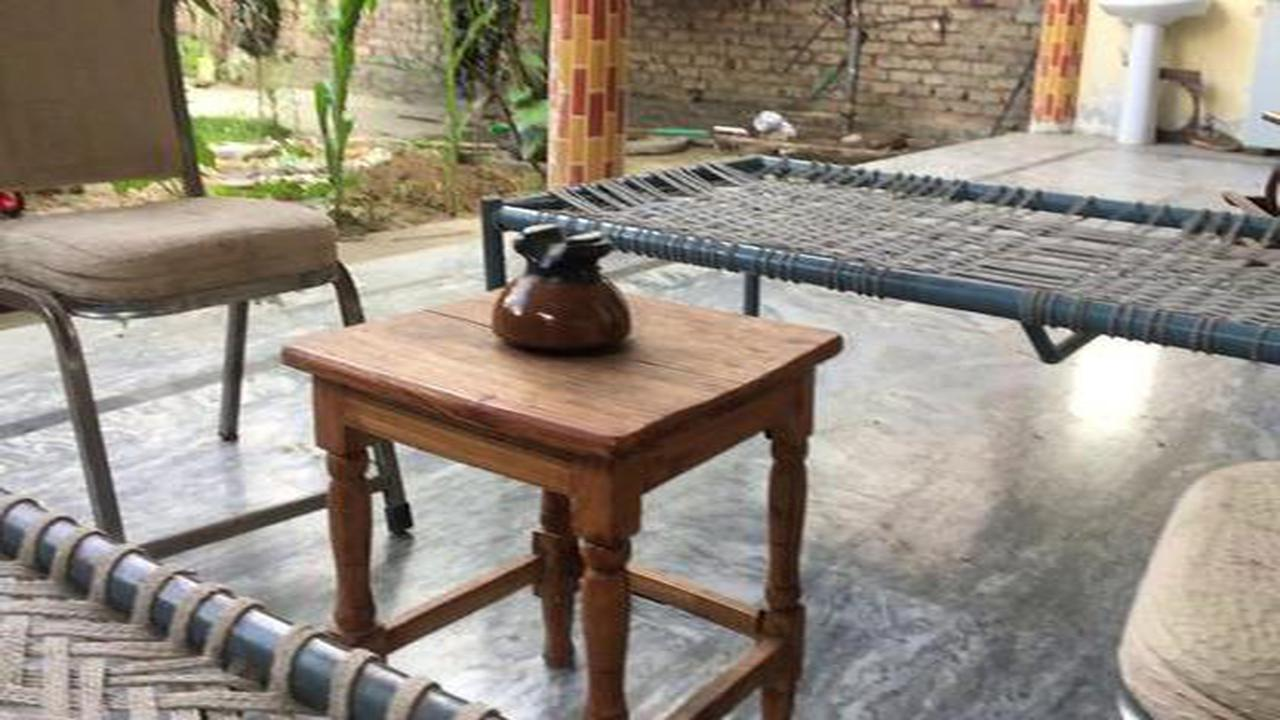insulator_pin: (477, 205, 656, 366)
